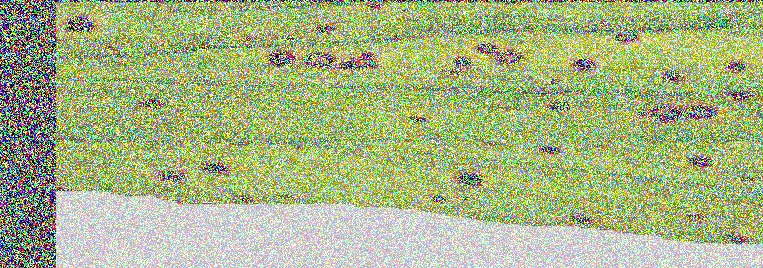Bacterial_Leaf_Blight: (639, 89, 749, 124), (664, 138, 729, 174), (542, 85, 591, 126), (543, 206, 618, 229), (236, 186, 314, 208), (674, 198, 721, 233), (147, 154, 196, 187), (604, 15, 651, 49), (561, 45, 603, 80), (62, 6, 101, 42), (346, 46, 385, 81), (257, 43, 301, 73), (440, 54, 484, 84), (195, 144, 233, 175), (496, 45, 528, 79), (529, 131, 564, 162), (392, 110, 446, 130), (714, 219, 751, 246), (653, 64, 697, 86), (139, 87, 171, 117), (302, 44, 337, 70), (723, 50, 754, 77), (309, 20, 343, 44), (450, 170, 495, 188), (471, 34, 499, 55), (429, 194, 454, 214), (365, 3, 389, 22)
